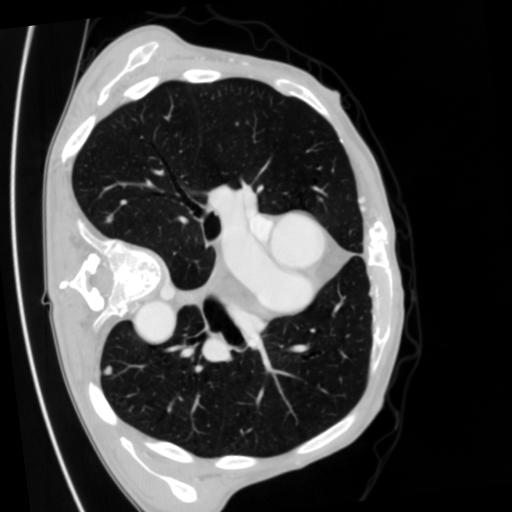nodule: (101, 363, 117, 379)
